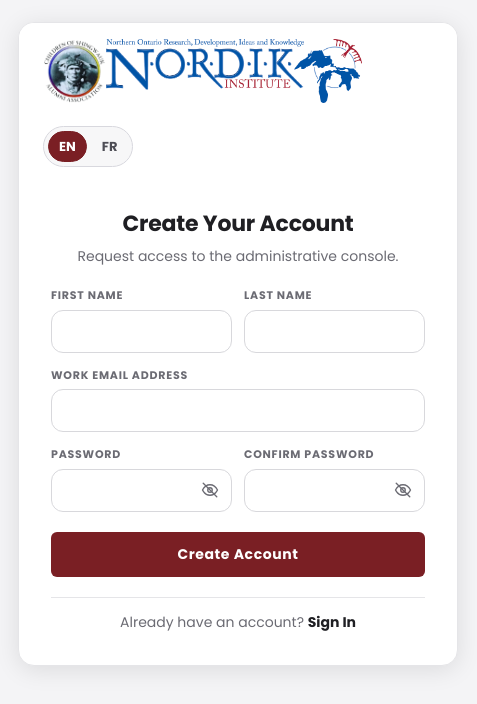
Scenario: SignupPage › shows field errors when required fields are missing
The image size is (477, 704).
Click the button "Create Account" at (238, 554), box [51,532,425,577]
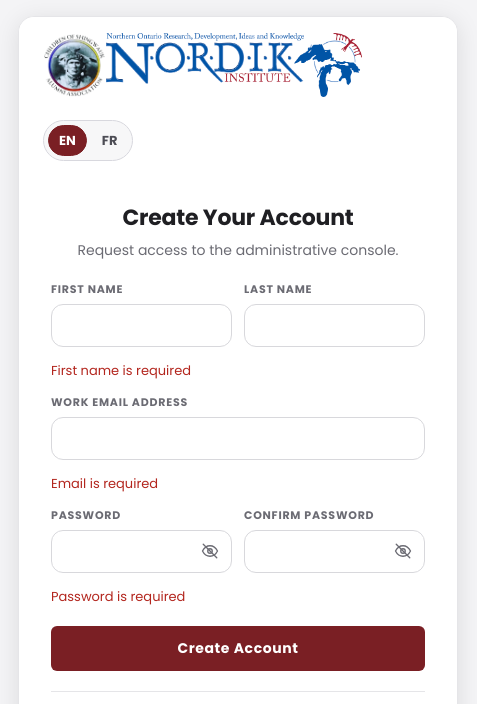
Expected: the text "First name is required" is shown, [51,360,191,380]
Expected: the text "Email is required" is shown, [51,474,158,492]
Expected: the text "Password is required" is shown, [51,586,185,606]
